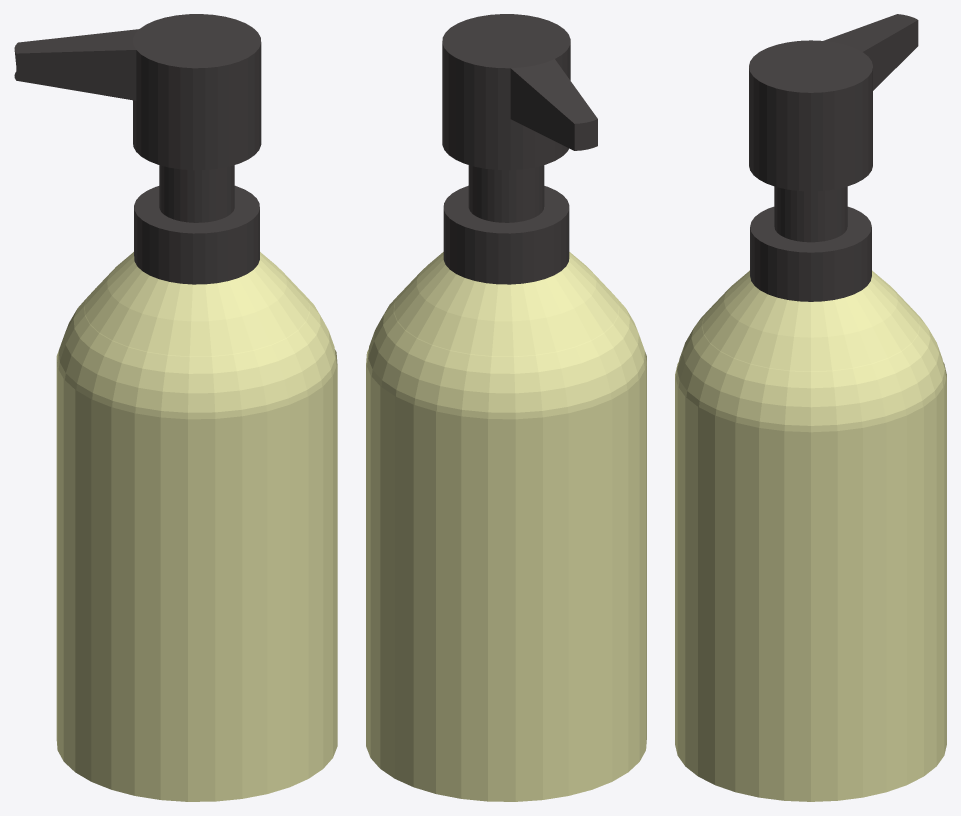
Rendered from Aderezo.obj.
3 renders of one model, left to right at view 1: azimuth 30°, elevation 25°; view 2: azimuth 150°, elevation 25°; view 3: azimuth 270°, elevation 25°, orthographic. The views are drawn at different scales.
Visible parts, largest first — view 1: AdereoM2_Circle.028_Material.095, AdereoM2_Circle.028_Material.096; view 2: AdereoM2_Circle.028_Material.095, AdereoM2_Circle.028_Material.096; view 3: AdereoM2_Circle.028_Material.095, AdereoM2_Circle.028_Material.096.
Boxes of the visible parts, box(x1,y1,x2,y2) form: AdereoM2_Circle.028_Material.095: box(56, 252, 337, 801); AdereoM2_Circle.028_Material.096: box(14, 14, 261, 284); AdereoM2_Circle.028_Material.095: box(366, 252, 646, 801); AdereoM2_Circle.028_Material.096: box(442, 14, 597, 284); AdereoM2_Circle.028_Material.095: box(675, 270, 946, 801); AdereoM2_Circle.028_Material.096: box(749, 14, 918, 301).
Bounding box in the file's own units: 0.4794 × 1.25 × 0.4528.
Materials: 2 (2 with a texture image).
